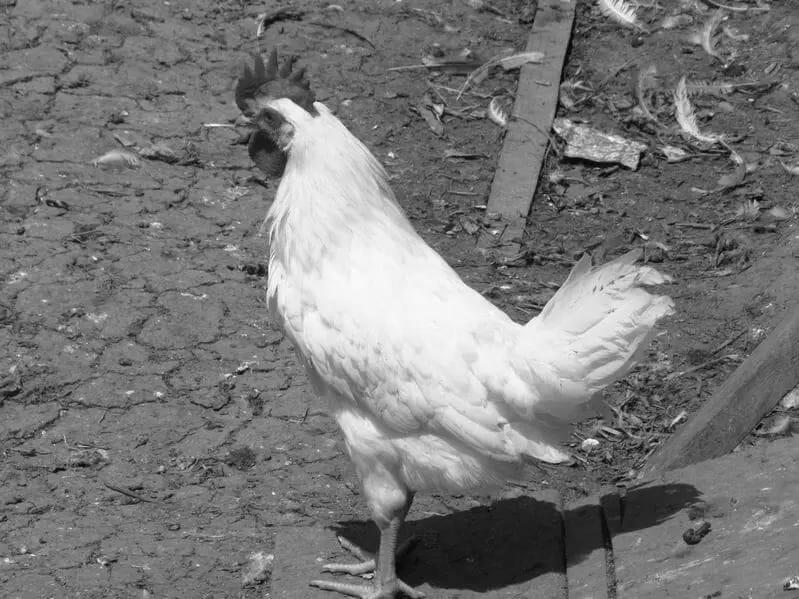Healthy: (227, 35, 675, 581)
